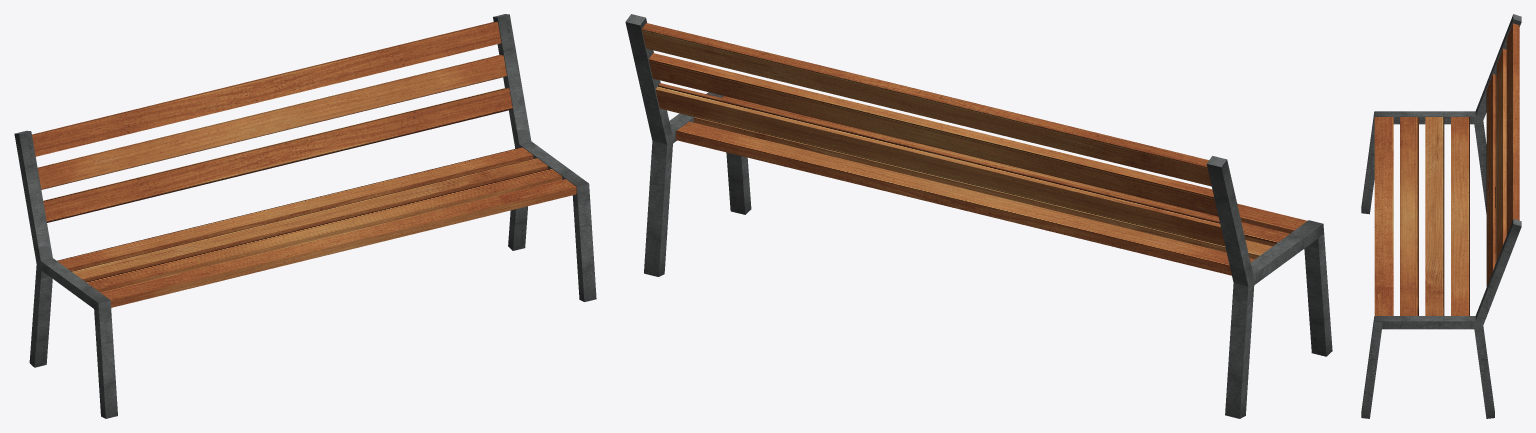
The model's file is Bench.fbx.
3 views of the same model, side by side, from view 1: azimuth 30°, elevation 25°; view 2: azimuth 150°, elevation 25°; view 3: azimuth 270°, elevation 25° (orthographic). The views are drawn at different scales.
Visible parts, largest first — view 1: Cube.002; view 2: Cube.002; view 3: Cube.002.
Part boxes in pixels (box(x1,y1,x2,y2)): Cube.002: box(14, 14, 596, 418); Cube.002: box(625, 14, 1332, 418); Cube.002: box(1361, 14, 1521, 418).
Bounding box in the file's own units: 281 × 122 × 90.67.
